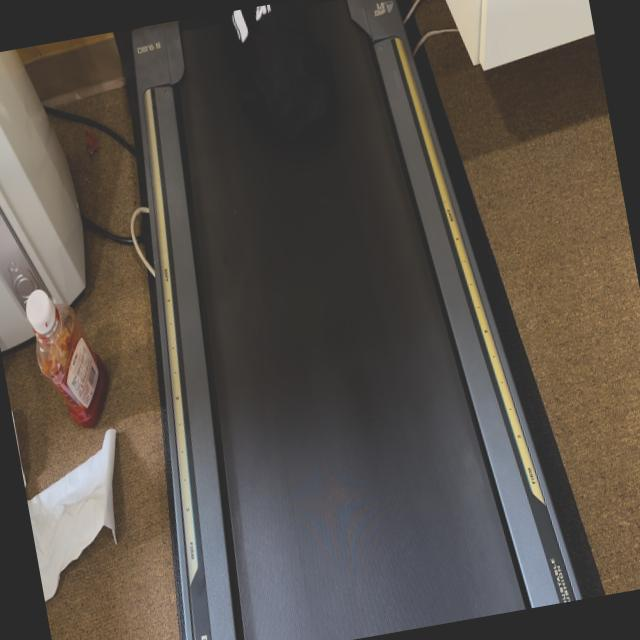Trash: (228, 2, 288, 50)
